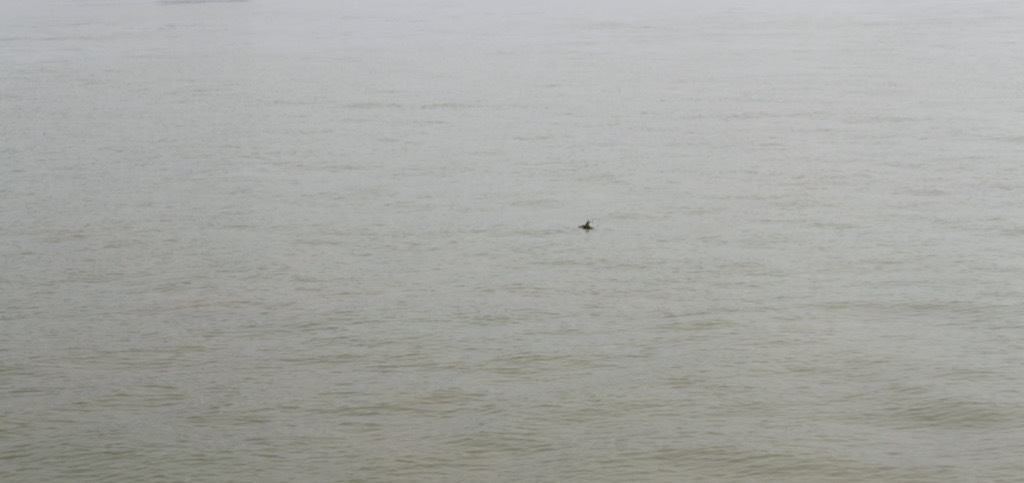plastic: (572, 217, 605, 241)
